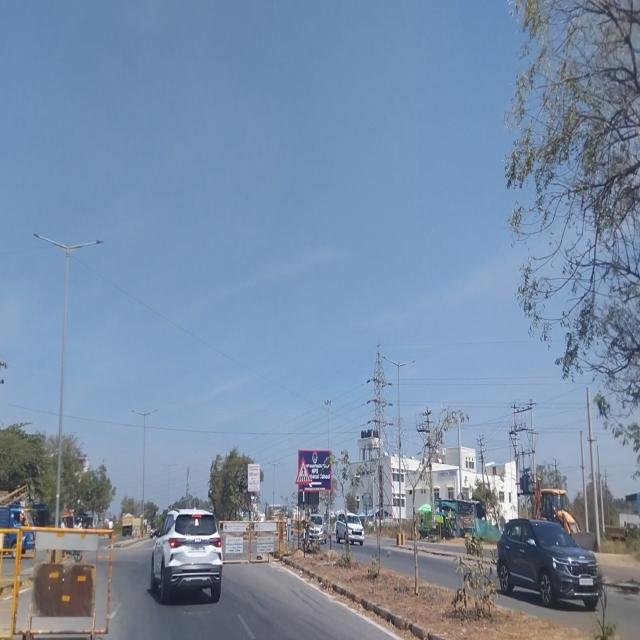bien_cam: (296, 456, 311, 484)
